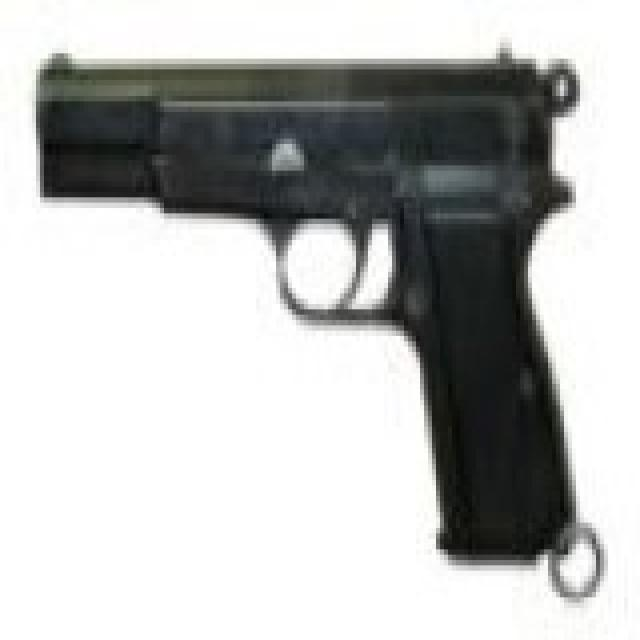Gun: (34, 24, 616, 610)
